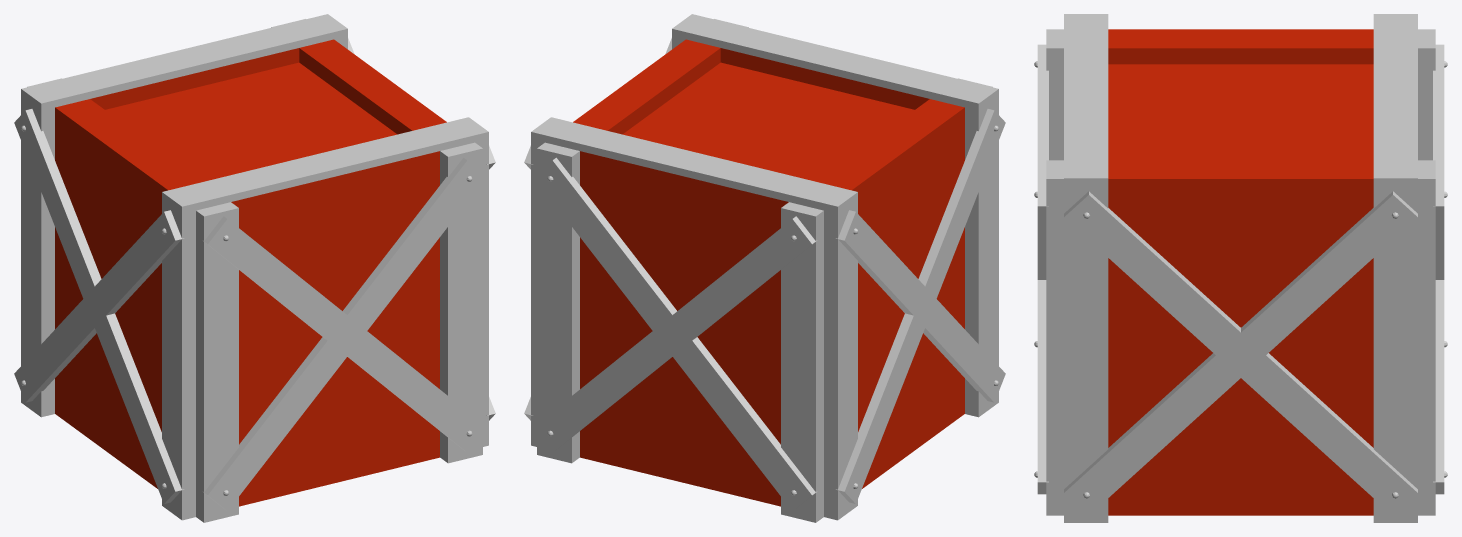
File: Crate_3.fbx
3 renders of one model, left to right at view 1: azimuth 30°, elevation 25°; view 2: azimuth 150°, elevation 25°; view 3: azimuth 270°, elevation 25°, orthographic. The views are drawn at different scales.
Visible parts, largest first — view 1: Crate; view 2: Crate; view 3: Crate.
Part boxes in pixels (left/top/right/bottom): Crate: left=14, top=14, right=495, bottom=522; Crate: left=524, top=14, right=1005, bottom=522; Crate: left=1034, top=14, right=1447, bottom=522.
Size of the model in its own units: 234 by 215 by 234.
